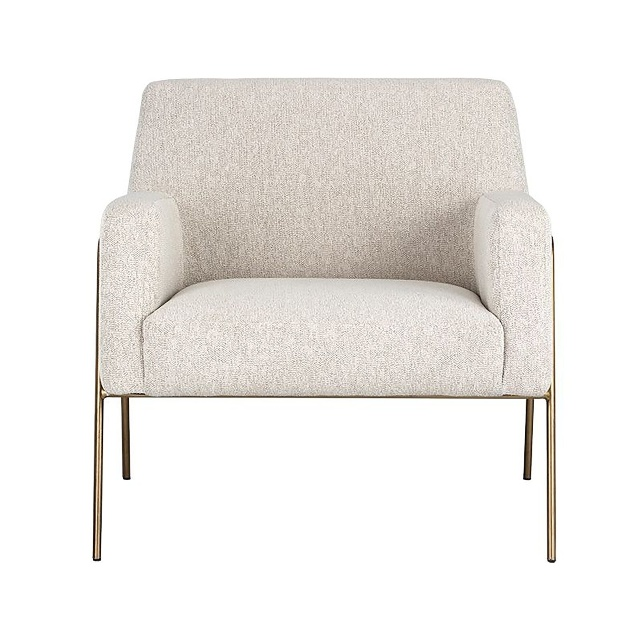obstacle: (94, 79, 555, 561)
